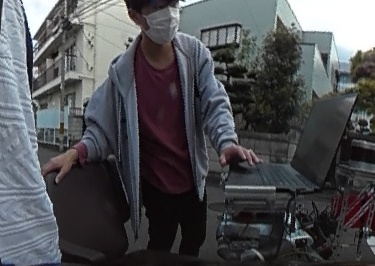person: (73, 0, 242, 266)
